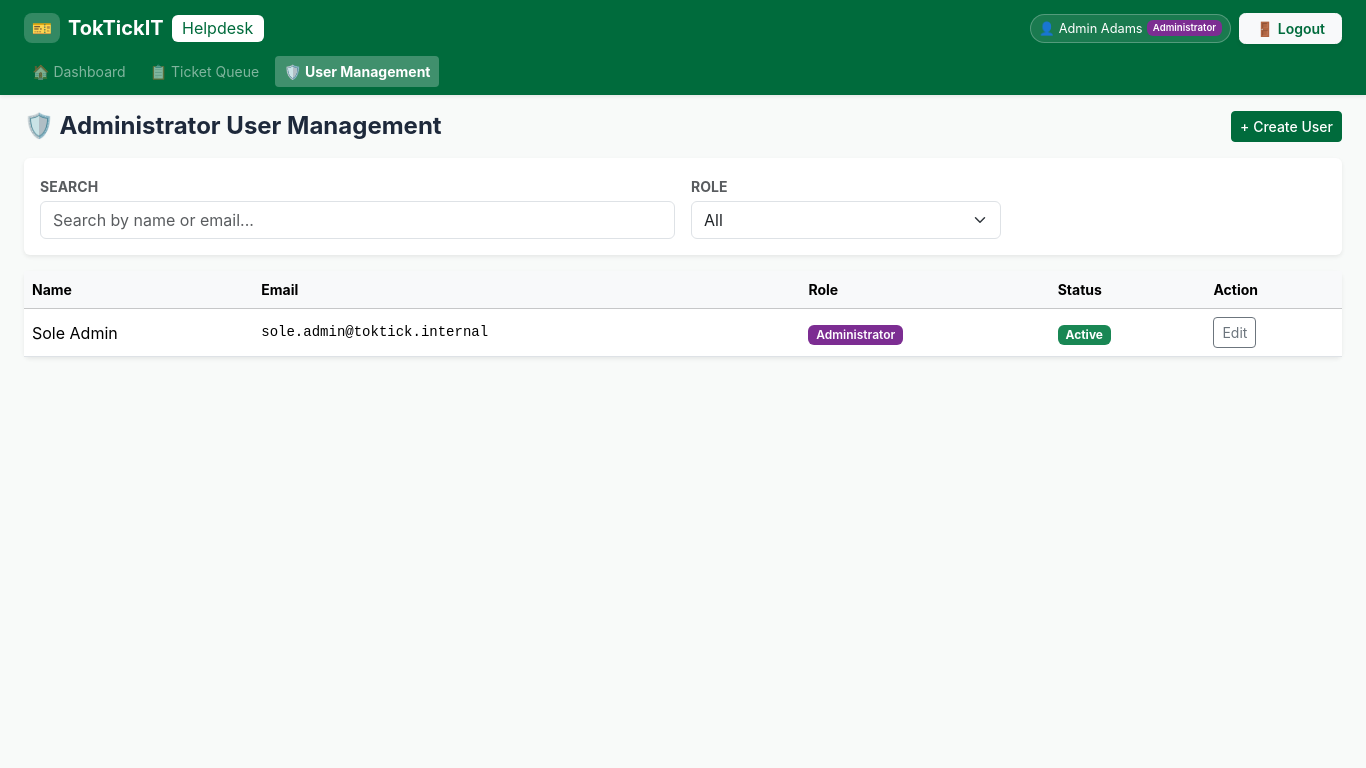
Administrator User Management (UI-08, UI-09) › UI-09b: last-Administrator attempt shows the inline blocking message from the server 403
This screenshot has width=1366, height=768.
Check: the text "Sole Admin" is shown, box [24,309,253,357]
Click the button "Edit" at {"x": 1235, "y": 333}, box [1213,317,1256,348]
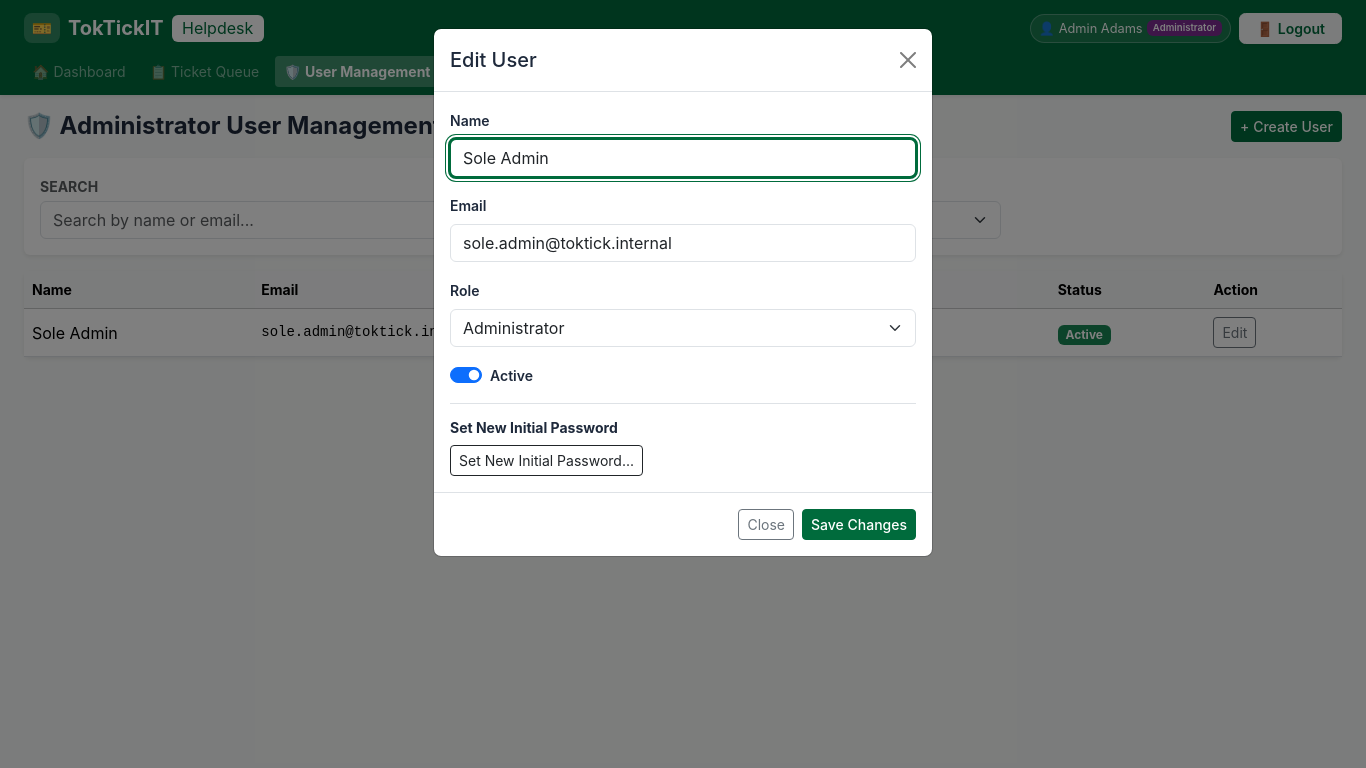
Click the checkbox labelled "Active" at {"x": 466, "y": 375}, box [450,367,482,383]
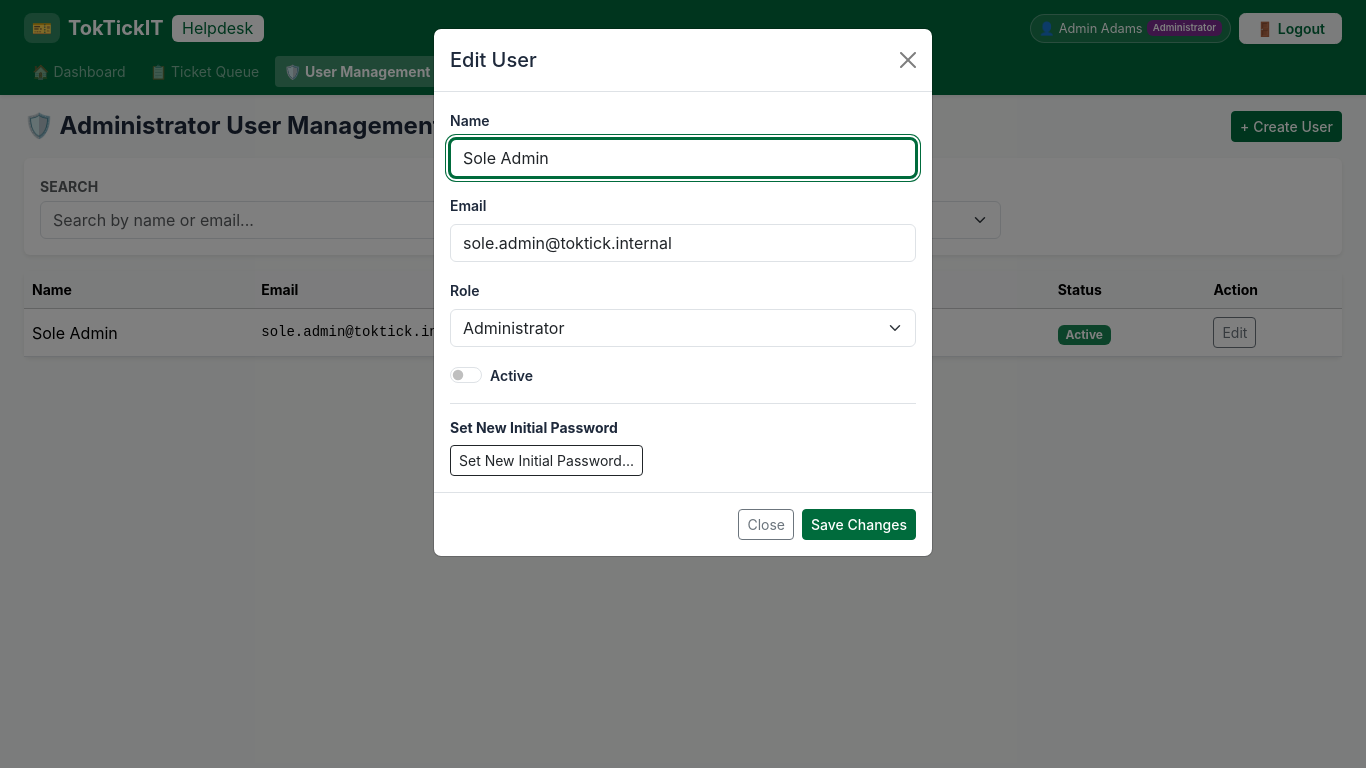
Click the button "Save Changes" at {"x": 859, "y": 524}, box [802,509,916,540]
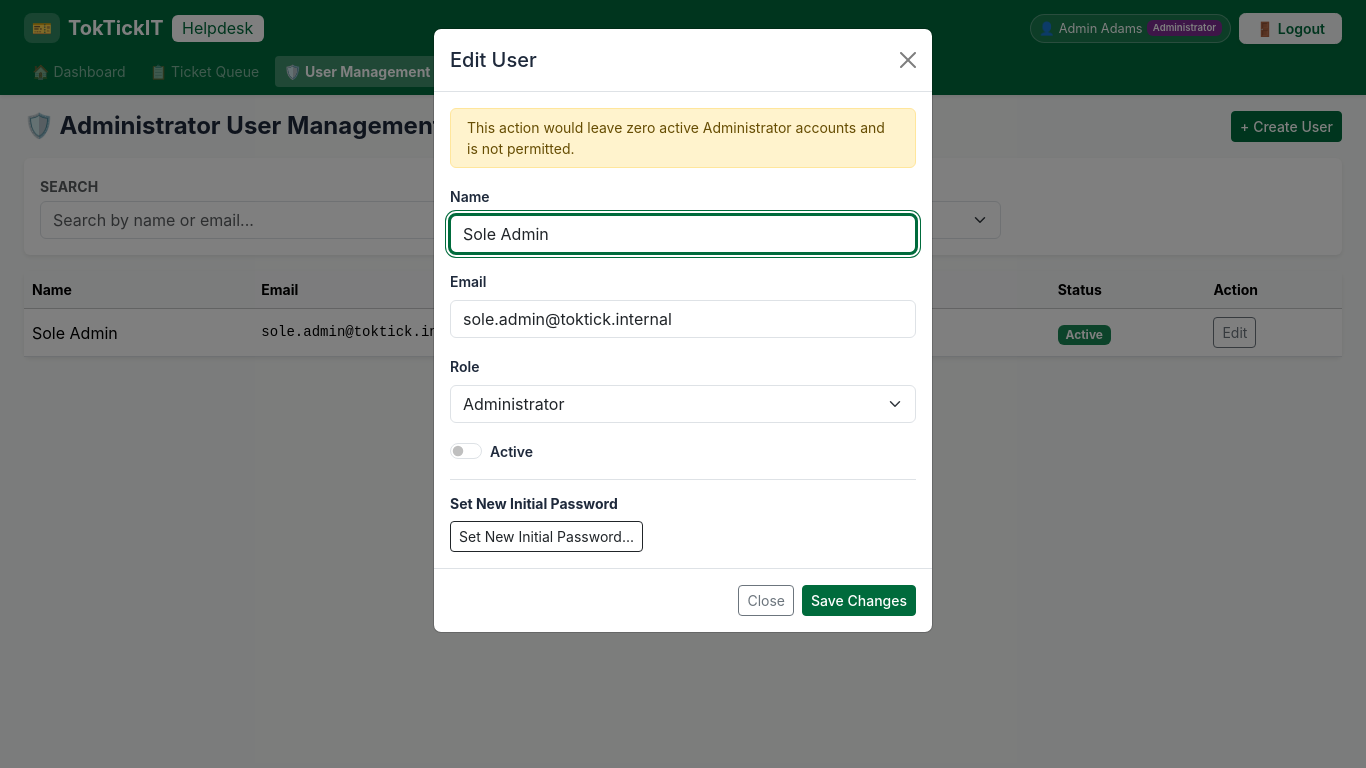
Check: the text with test id "admin-safety-blocked-message" shows "zero active Administrator", box [467,119,885,157]
